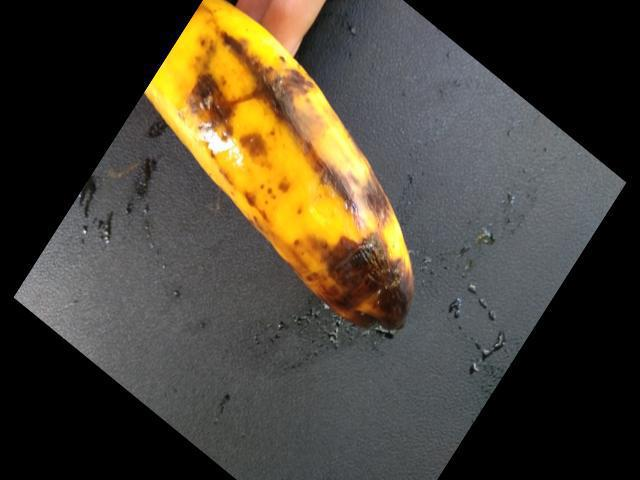rotten: (138, 0, 433, 372)
